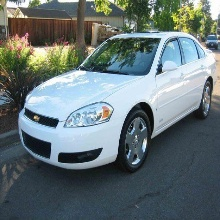no damage: (16, 31, 213, 172)
